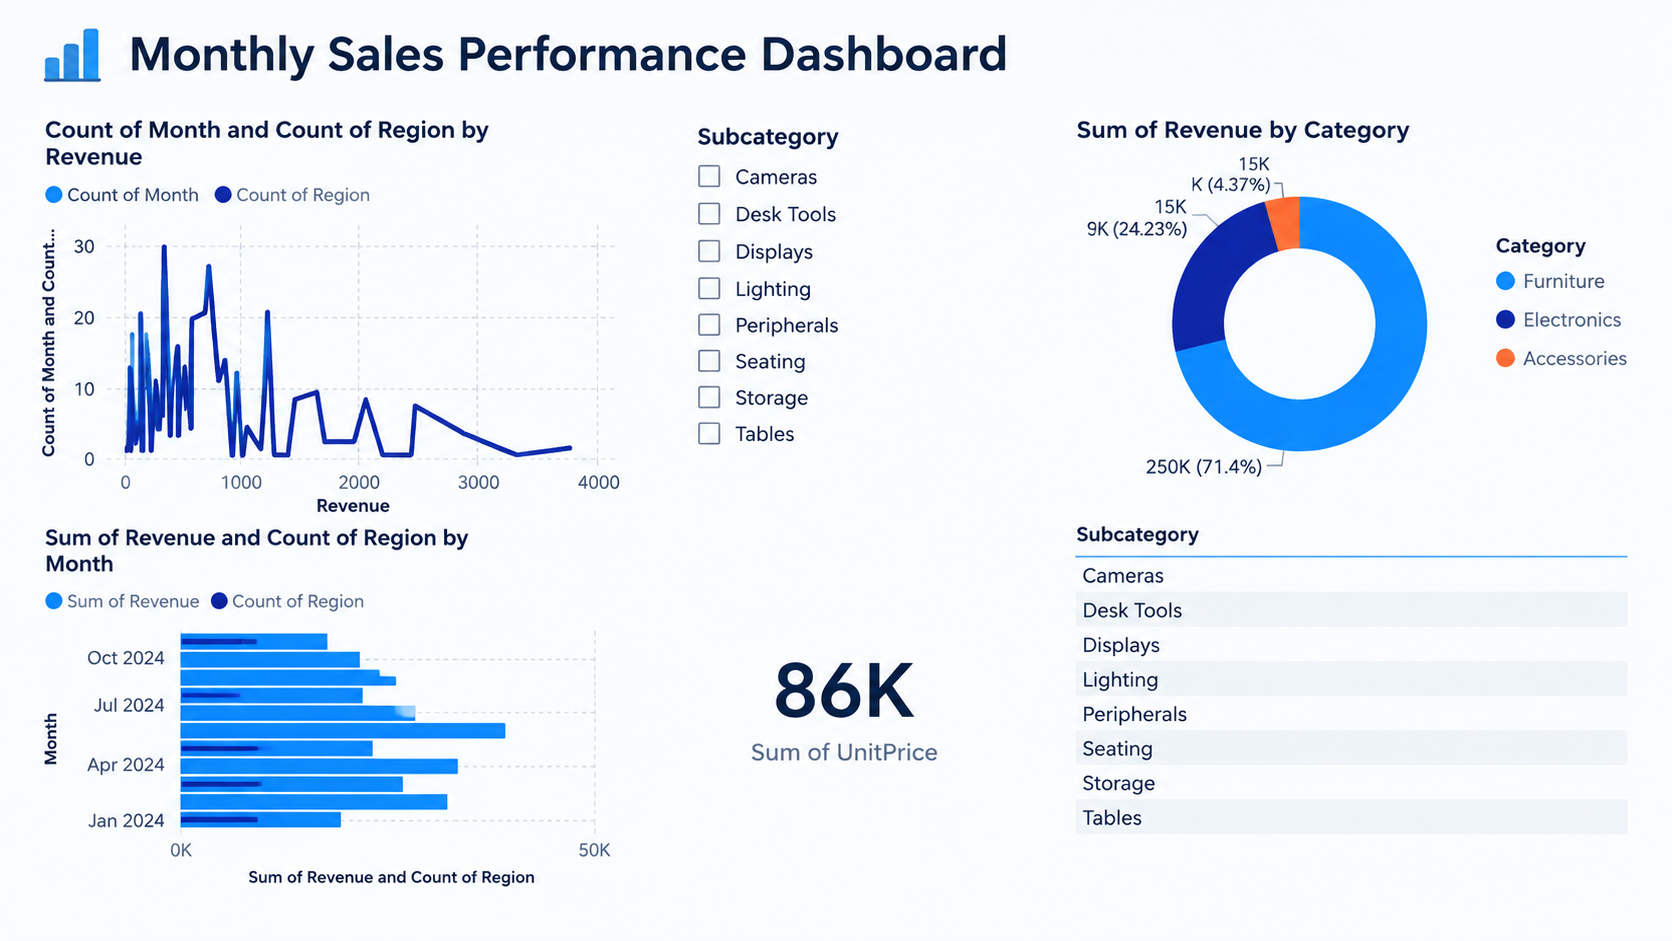

The page's visual inventory and layout, read from the dashboard file:
{"tool":"powerbi","page":{"name":"Page 1","canvas":[1280,720],"ordinal":0},"visuals":[{"type":"barChart","fields":{"Category":["sales_data.Month"],"Y":["Sum(sales_data.Revenue)","CountNonNull(sales_data.Region)"]},"box":[30.2,380.3,359.9,280.1],"z":0},{"type":"lineChart","fields":{"Y":["CountNonNull(sales_data.Month)","CountNonNull(sales_data.Region)"],"Category":["sales_data.Revenue"]},"box":[20.4,79.8,358.9,300.5],"z":1000},{"type":"donutChart","fields":{"Category":["products.Category"],"Y":["Sum(sales_data.Revenue)"]},"box":[749.9,79.8,359.9,280.1],"z":2000},{"type":"tableEx","fields":{"Values":["products.Subcategory"]},"box":[749.9,359.9,359.9,300.5],"z":3000},{"type":"slicer","fields":{"Values":["products.Subcategory"]},"box":[390,79.8,359.9,280.1],"z":4000},{"type":"card","fields":{"Values":["Sum(sales_data.UnitPrice)"]},"box":[390,359.9,359.9,300.5],"z":5000},{"type":"textbox","box":[1120,80,160,280],"z":6000},{"type":"textbox","box":[1120,360,160,301],"z":7000},{"type":"textbox","box":[200.4,0,780.1,66.1],"z":8000}]}

Visuals, with their boxes in screenshot pixels (x1, y1, x2, y2), scaled from the page's 1280x720 canvas onto the 1672x941 screenshot:
barChart - sales_data.Month x Sum(sales_data.Revenue): (39,497,510,863)
lineChart - CountNonNull(sales_data.Month) x CountNonNull(sales_data.Region): (27,104,495,497)
donutChart - products.Category x Sum(sales_data.Revenue): (980,104,1450,470)
tableEx - products.Subcategory: (980,470,1450,863)
slicer - products.Subcategory: (509,104,980,470)
card - Sum(sales_data.UnitPrice): (509,470,980,863)
textbox: (1463,105,1671,470)
textbox: (1463,470,1671,864)
textbox: (262,0,1281,86)
